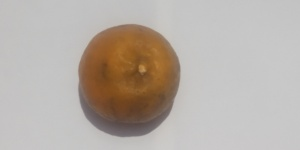BAD: (77, 21, 183, 123)
